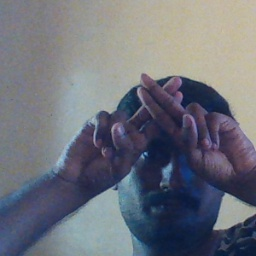F: (102, 70, 227, 165)
